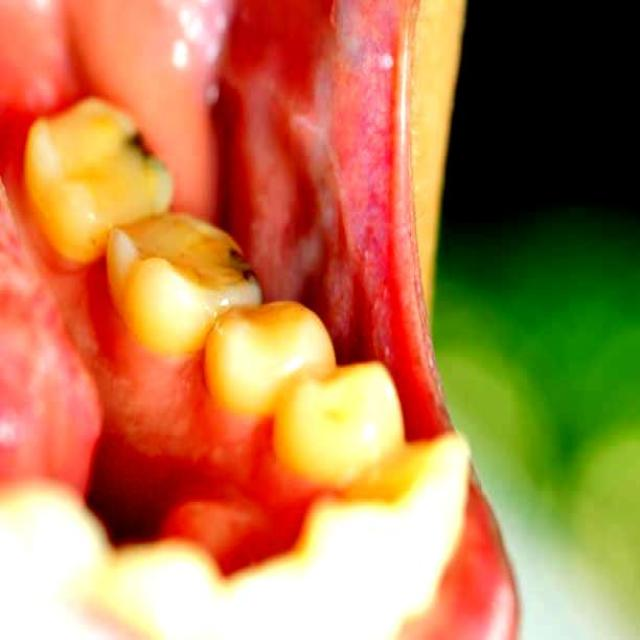caries: (226, 234, 272, 298), (127, 124, 171, 180)
